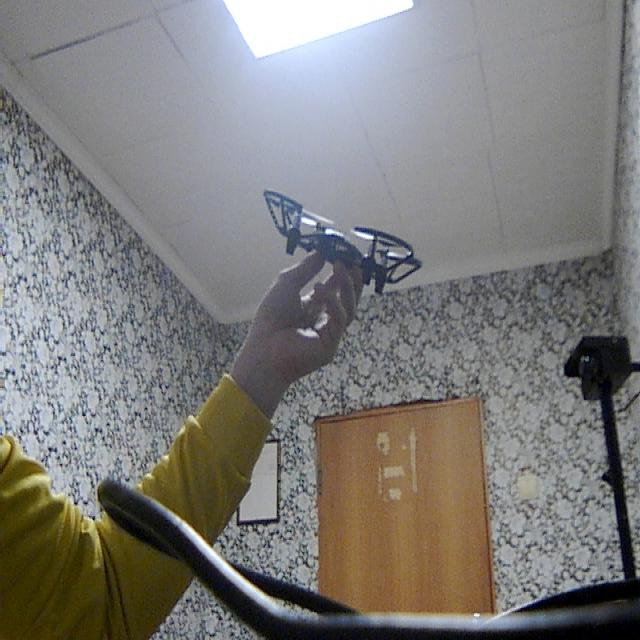drone: (246, 178, 427, 302)
